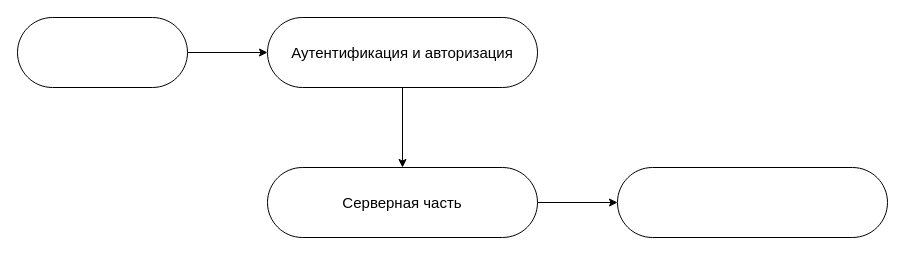
Some shapes in this 905 by 255 pixel diagram are drawn without their labels. The shapes that lost their labels are listed below. From the top down, each one's centre as x and y in pixels, then its label:
At point (102, 52): "Пользователь".
At point (752, 202): "База данных".
